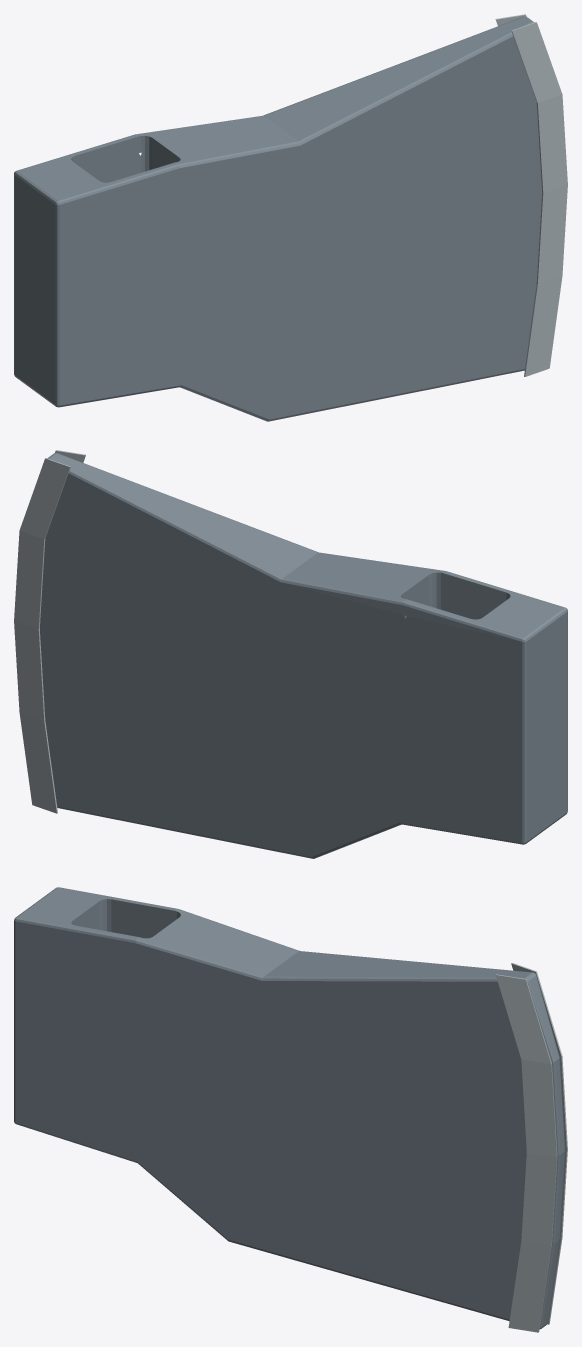
Rendered from axe_head_sharp.glb.
3 renders of one model, top to bottom at view 1: azimuth 30°, elevation 25°; view 2: azimuth 150°, elevation 25°; view 3: azimuth 330°, elevation 25°, orthographic.
Parts seen in each view (by area): view 1: Sound forged axe head, Fresh cutting bevel; view 2: Sound forged axe head, Fresh cutting bevel.001; view 3: Sound forged axe head, Fresh cutting bevel, Fresh cutting bevel.001.
Boxes of the visible parts, left/top/right/bottom form: Sound forged axe head: left=14, top=16, right=542, bottom=421; Fresh cutting bevel: left=511, top=22, right=567, bottom=376; Sound forged axe head: left=40, top=453, right=567, bottom=858; Fresh cutting bevel.001: left=14, top=458, right=70, bottom=813; Sound forged axe head: left=14, top=887, right=565, bottom=1329; Fresh cutting bevel: left=496, top=974, right=557, bottom=1332; Fresh cutting bevel.001: left=511, top=963, right=567, bottom=1324.
Size of the model in its own units: 0.2891 by 0.1831 by 0.0421.
